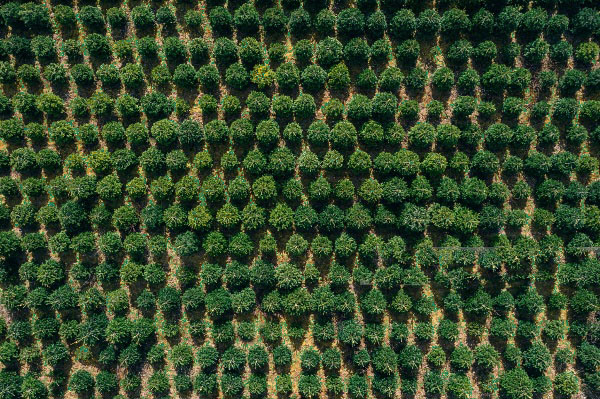TREE: (411, 238, 442, 269), (559, 263, 600, 285), (419, 12, 443, 45), (504, 368, 533, 395), (523, 343, 550, 371), (50, 120, 78, 146), (143, 93, 175, 115), (313, 289, 339, 316), (305, 67, 331, 94), (25, 4, 50, 32), (52, 288, 81, 312), (446, 9, 470, 38), (472, 149, 502, 172), (483, 64, 514, 86), (339, 9, 365, 35), (206, 119, 233, 144), (141, 151, 168, 176), (271, 149, 298, 174), (240, 204, 267, 229), (330, 63, 351, 95), (568, 234, 597, 257), (207, 289, 232, 315), (280, 263, 306, 288), (348, 205, 374, 230), (559, 204, 585, 229), (108, 289, 132, 316), (79, 289, 106, 313), (81, 316, 104, 344), (391, 9, 414, 37), (335, 122, 358, 150), (396, 39, 420, 65), (177, 120, 203, 144), (233, 288, 256, 315), (51, 176, 78, 199), (396, 150, 423, 173), (500, 6, 522, 34), (221, 348, 246, 372), (152, 119, 176, 144), (289, 292, 312, 318), (258, 121, 281, 147), (488, 124, 514, 147), (386, 176, 409, 202), (5, 286, 27, 313), (406, 66, 428, 93), (578, 9, 600, 36), (61, 204, 88, 226), (453, 271, 482, 291), (319, 38, 343, 62), (373, 95, 397, 119), (190, 205, 214, 229), (411, 122, 436, 145), (462, 179, 487, 202), (160, 288, 182, 314), (473, 40, 499, 62), (473, 8, 495, 34), (204, 176, 226, 202), (573, 321, 600, 342), (238, 6, 259, 33), (38, 93, 65, 114), (403, 208, 430, 229), (39, 263, 67, 283), (361, 233, 381, 261), (541, 236, 561, 264), (450, 376, 474, 399), (574, 290, 597, 314), (466, 293, 490, 316), (182, 287, 206, 310), (254, 263, 277, 287), (405, 268, 428, 292), (347, 39, 370, 63), (165, 38, 188, 62), (136, 36, 159, 60), (86, 34, 110, 57), (577, 41, 600, 65), (175, 176, 199, 199), (228, 175, 252, 198), (270, 205, 294, 228), (521, 239, 540, 268), (134, 319, 156, 344), (137, 292, 159, 317), (265, 9, 287, 34), (32, 36, 57, 58), (96, 63, 121, 85), (322, 205, 344, 230), (518, 293, 545, 313), (292, 8, 311, 36), (213, 321, 236, 344), (329, 263, 352, 286), (379, 267, 402, 290), (232, 233, 255, 256), (71, 64, 94, 87), (296, 205, 319, 228), (374, 349, 396, 373), (340, 321, 362, 345), (261, 292, 283, 316), (523, 7, 545, 31), (555, 98, 579, 120), (92, 93, 114, 117), (99, 176, 123, 198), (115, 207, 137, 231), (70, 370, 95, 391), (312, 323, 337, 344), (452, 346, 473, 371), (112, 150, 138, 170), (144, 204, 164, 230), (219, 203, 239, 229), (24, 373, 47, 395), (198, 375, 220, 398), (223, 375, 245, 398), (72, 232, 94, 255), (122, 63, 144, 86), (350, 95, 372, 118), (247, 92, 270, 114), (1, 119, 24, 141), (309, 121, 331, 144), (364, 122, 386, 145), (437, 124, 459, 147), (363, 178, 385, 201), (108, 318, 129, 342), (300, 374, 321, 398), (400, 346, 421, 370), (477, 346, 498, 370), (314, 236, 335, 260), (229, 64, 250, 88), (279, 65, 300, 89), (255, 177, 276, 201), (458, 208, 479, 232), (450, 248, 476, 267), (582, 345, 600, 372), (478, 247, 500, 269), (1, 4, 23, 26), (357, 69, 379, 91), (44, 343, 67, 364), (173, 344, 194, 367), (201, 263, 224, 284), (354, 265, 375, 288), (287, 235, 310, 256), (62, 40, 85, 61), (47, 64, 70, 85), (201, 66, 222, 89), (254, 66, 277, 87), (294, 95, 315, 118), (128, 178, 151, 199), (433, 205, 454, 228), (482, 207, 505, 228), (1, 373, 21, 397), (426, 372, 446, 396), (384, 237, 404, 261), (503, 237, 519, 267), (12, 150, 36, 170), (539, 181, 564, 200), (5, 37, 31, 55), (35, 318, 57, 339), (349, 375, 370, 397), (364, 293, 386, 314), (215, 38, 236, 60), (176, 65, 198, 86), (523, 41, 545, 62), (105, 123, 126, 145), (233, 121, 254, 143), (13, 205, 35, 226), (166, 206, 187, 228), (412, 178, 433, 200), (437, 178, 459, 199), (258, 323, 281, 343), (102, 231, 122, 254), (81, 6, 104, 26), (210, 7, 233, 27), (541, 125, 561, 148), (282, 179, 305, 199), (300, 152, 320, 175), (374, 377, 398, 396), (383, 67, 402, 91), (349, 151, 373, 170), (578, 154, 597, 178), (491, 320, 516, 338), (369, 11, 387, 36), (99, 372, 120, 393), (197, 346, 217, 368), (544, 319, 564, 341), (556, 372, 576, 394), (205, 234, 227, 254), (190, 39, 210, 61), (116, 96, 138, 116), (86, 152, 108, 172), (80, 124, 100, 146), (76, 177, 96, 199), (168, 150, 190, 170), (245, 151, 267, 171), (529, 153, 551, 173), (552, 153, 574, 173), (338, 235, 357, 258), (372, 41, 391, 64), (310, 178, 333, 197), (425, 153, 448, 172), (317, 9, 335, 33), (148, 374, 169, 394), (337, 293, 357, 314), (228, 264, 249, 284), (449, 42, 469, 63), (547, 16, 568, 36), (26, 122, 47, 142), (376, 205, 397, 225), (374, 152, 394, 173), (400, 374, 419, 396), (1, 230, 20, 252), (177, 233, 196, 255), (56, 4, 75, 26), (513, 68, 532, 90), (388, 124, 407, 146), (89, 205, 111, 224), (154, 178, 173, 200), (534, 209, 556, 228), (250, 348, 268, 371), (97, 264, 120, 282), (243, 39, 261, 62), (434, 67, 452, 90), (302, 347, 319, 371), (20, 65, 44, 82), (518, 126, 538, 146), (37, 150, 62, 166), (503, 153, 523, 173), (392, 322, 411, 343), (121, 263, 142, 282), (146, 264, 167, 283), (325, 99, 346, 118), (14, 92, 35, 111), (568, 127, 587, 148), (275, 374, 293, 396), (258, 236, 280, 254), (562, 71, 584, 89), (465, 124, 483, 146), (1, 176, 19, 198), (566, 184, 588, 202), (1, 344, 18, 367), (24, 179, 47, 196), (98, 348, 117, 368), (10, 320, 30, 339), (480, 375, 499, 395), (126, 235, 146, 254), (133, 8, 153, 27), (112, 39, 132, 58), (553, 42, 572, 62), (274, 96, 293, 116), (128, 124, 147, 144), (39, 205, 59, 224), (327, 375, 345, 396), (582, 377, 600, 398), (176, 266, 197, 284), (153, 65, 171, 86), (452, 98, 473, 116), (337, 179, 355, 200), (451, 152, 469, 173), (25, 235, 48, 251), (150, 236, 166, 259), (248, 377, 267, 396), (71, 98, 90, 117), (123, 371, 141, 391), (272, 346, 290, 366), (352, 349, 370, 369), (52, 232, 70, 252), (531, 99, 549, 119), (123, 345, 140, 366), (296, 41, 313, 62), (324, 151, 345, 168), (556, 348, 578, 364), (586, 68, 600, 93), (467, 321, 486, 339), (460, 70, 479, 88), (538, 70, 557, 88), (503, 98, 521, 117), (427, 101, 446, 119), (67, 154, 85, 173), (195, 150, 213, 169), (491, 182, 509, 201), (515, 181, 533, 200), (434, 272, 451, 292), (508, 209, 528, 226), (367, 324, 383, 345), (1, 62, 16, 84), (158, 9, 176, 27), (582, 101, 600, 119), (323, 351, 342, 368), (439, 322, 456, 341), (21, 347, 41, 363), (240, 321, 256, 341), (429, 346, 445, 366), (108, 8, 129, 23), (174, 374, 192, 391), (416, 322, 433, 340), (495, 293, 512, 311), (32, 290, 49, 308), (400, 101, 418, 118), (394, 293, 410, 312), (222, 152, 241, 168), (520, 322, 540, 337), (416, 298, 436, 313), (307, 266, 322, 286), (504, 345, 520, 363), (445, 297, 463, 313), (587, 207, 600, 229), (468, 234, 489, 247), (61, 322, 77, 339), (148, 344, 164, 361), (534, 376, 550, 393), (20, 264, 37, 280), (503, 44, 520, 60), (226, 96, 242, 113), (50, 377, 65, 395), (286, 124, 301, 142), (478, 102, 495, 117), (74, 265, 92, 279), (269, 43, 283, 61), (185, 10, 200, 26), (202, 96, 218, 111), (175, 98, 190, 114), (289, 326, 305, 340), (443, 235, 460, 248), (164, 323, 178, 338), (551, 294, 565, 309), (1, 150, 10, 173), (1, 205, 11, 225), (590, 182, 600, 201), (189, 322, 203, 335), (1, 95, 8, 115)
